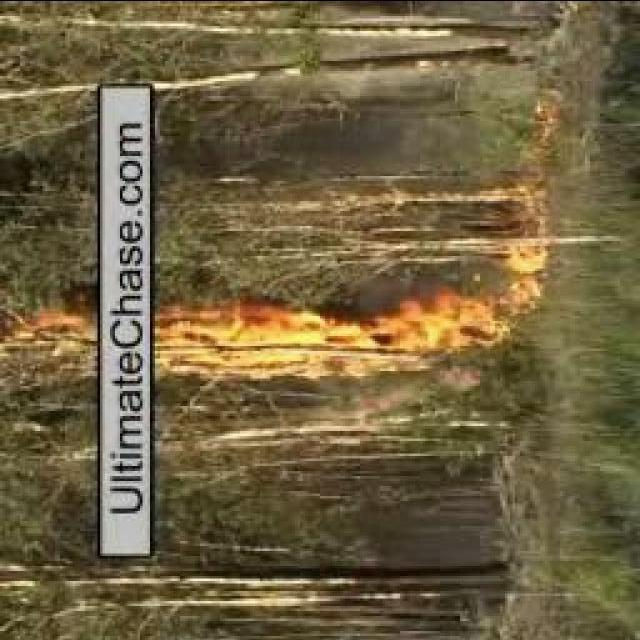Fire: (416, 233, 546, 369), (165, 311, 408, 375), (9, 313, 90, 355)
